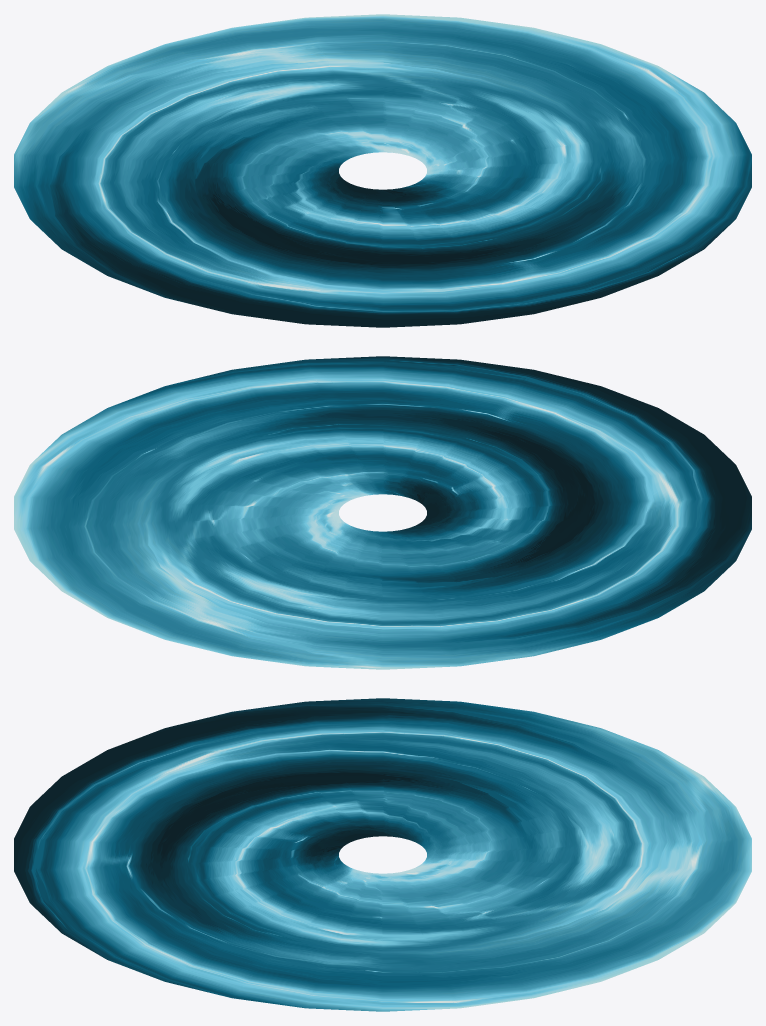
File: Huan_xuanzhuan.FBX
The picture shows the model from 3 angles, top to bottom: view 1: azimuth 30°, elevation 25°; view 2: azimuth 150°, elevation 25°; view 3: azimuth 270°, elevation 25°; orthographic projection.
Parts seen in each view (by area): view 1: Plane001; view 2: Plane001; view 3: Plane001.
Boxes of the visible parts, x1,y1,x2,y2 form: Plane001: (14,14,751,327); Plane001: (14,356,751,669); Plane001: (14,698,751,1011).
Size of the model in its own units: 114 by 8.74e-06 by 113.
1 material, 1 textured.
